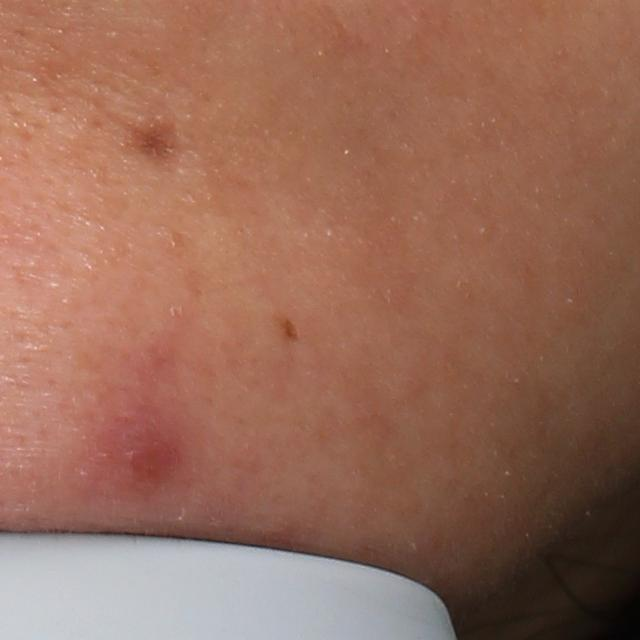papule: (118, 415, 170, 492)
